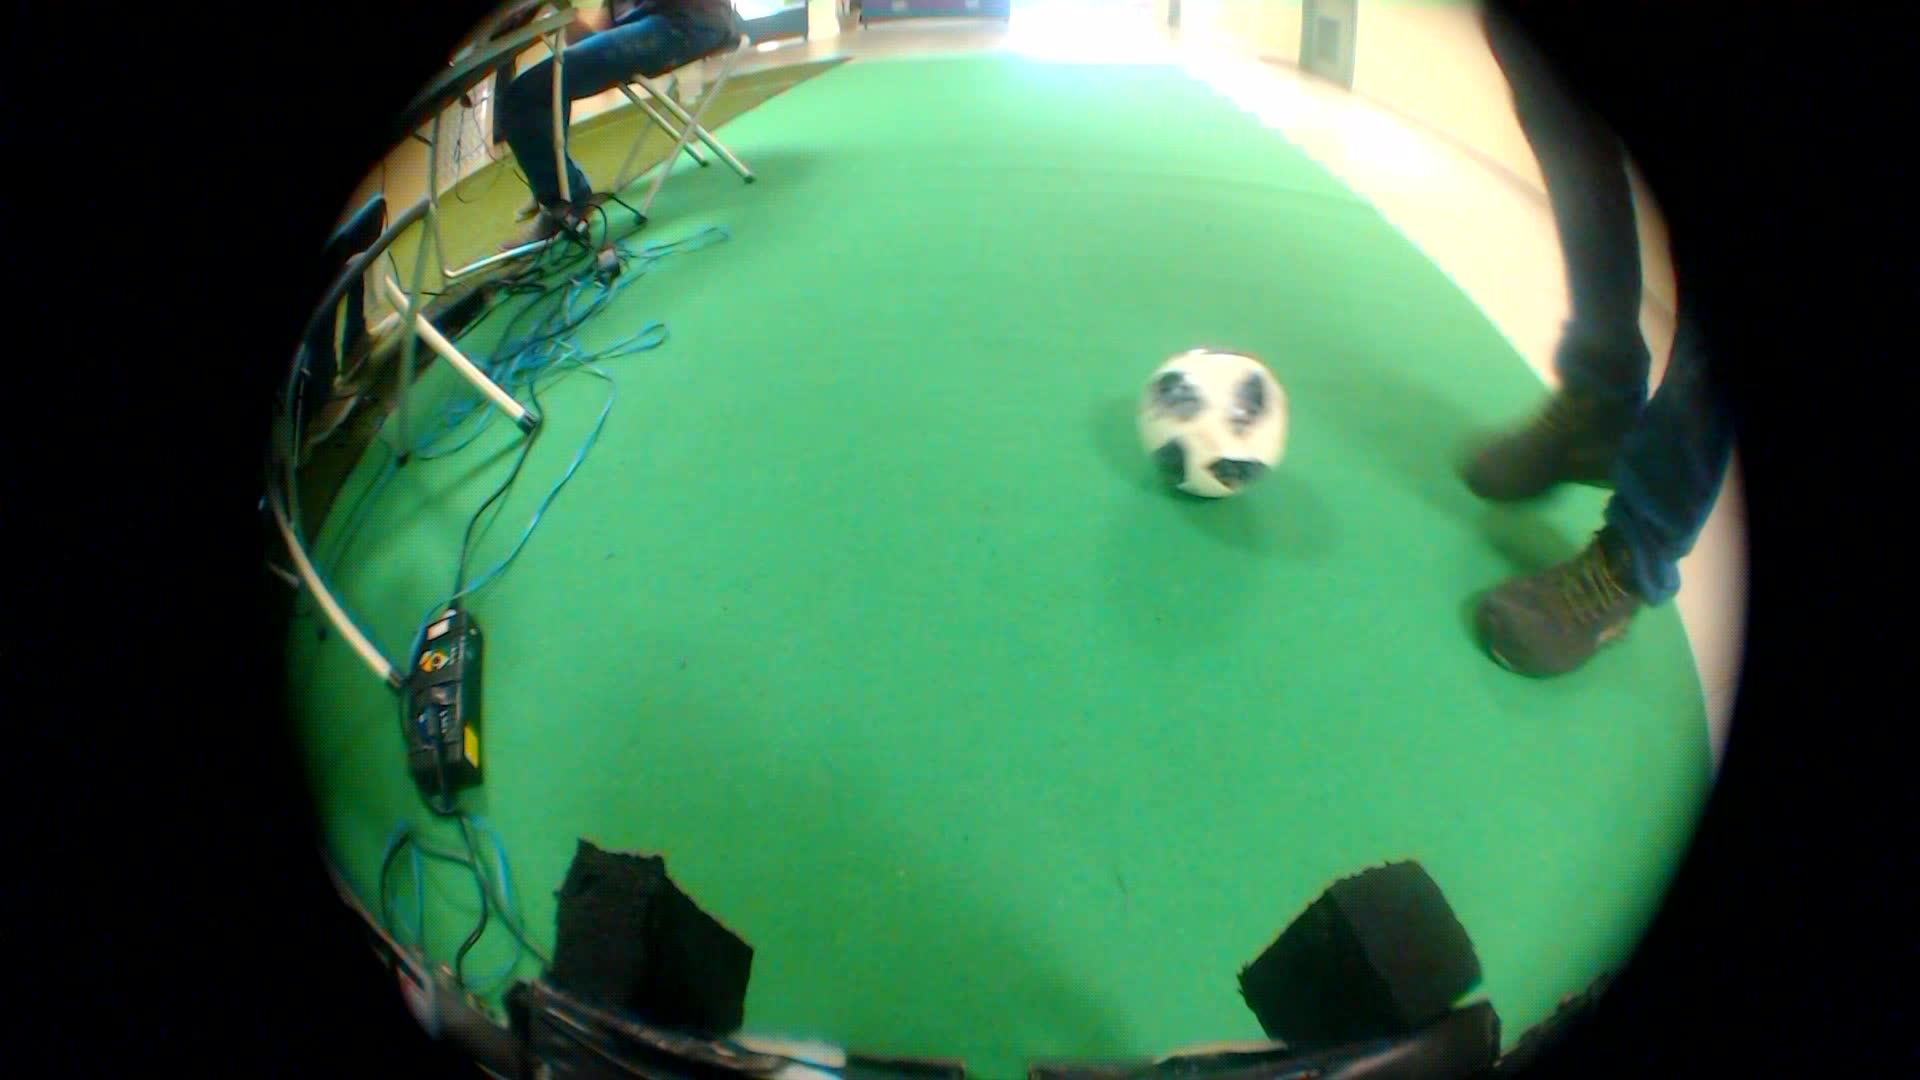ball: (1120, 327, 1324, 516)
